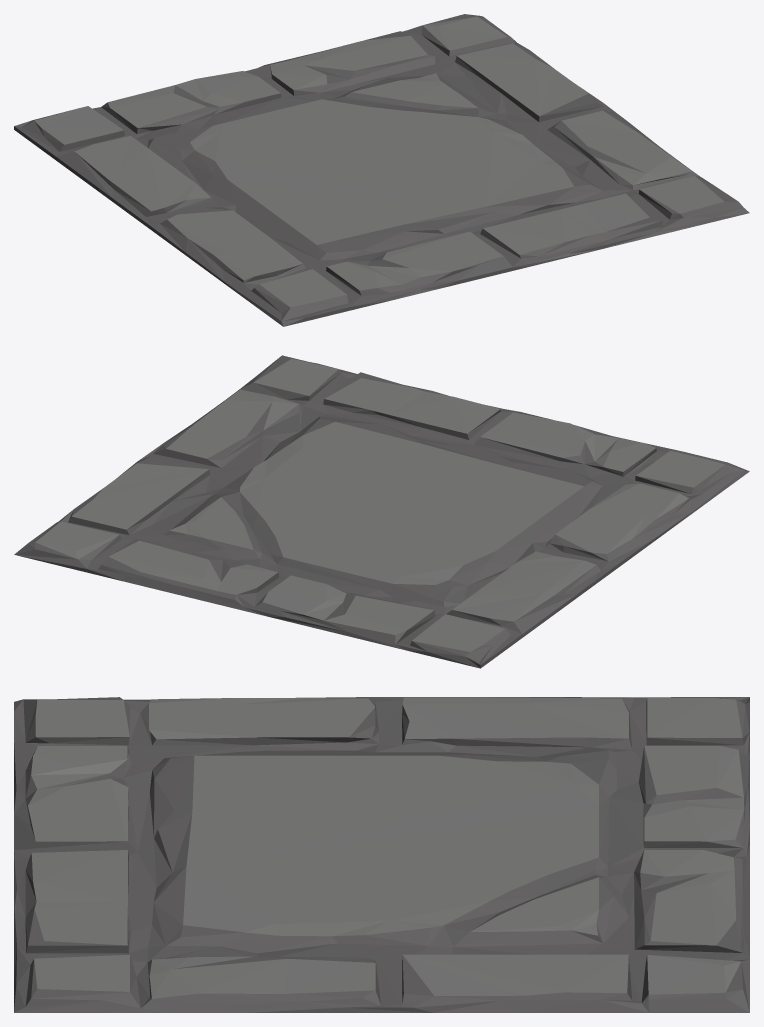
Rendered from SM_Env_Tiles_05.FBX.
The picture shows the model from 3 angles, top to bottom: view 1: azimuth 30°, elevation 25°; view 2: azimuth 150°, elevation 25°; view 3: azimuth 270°, elevation 25°; orthographic projection. The views are drawn at different scales.
Visible parts, largest first — view 1: SM_Env_Tiles_05; view 2: SM_Env_Tiles_05; view 3: SM_Env_Tiles_05.
Boxes of the visible parts, box(x1,y1,x2,y2) form: SM_Env_Tiles_05: box(14, 14, 749, 326); SM_Env_Tiles_05: box(14, 355, 749, 668); SM_Env_Tiles_05: box(14, 697, 749, 1012).
Size of what is drawn, in the model's own units: 500 by 500 by 10.5.
